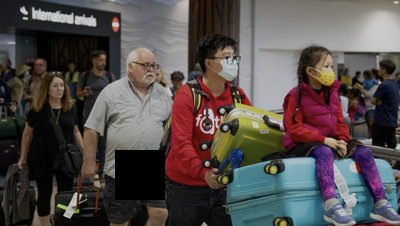with_mask: (212, 52, 240, 80), (315, 59, 337, 88)
without_mask: (136, 59, 159, 86), (50, 82, 66, 99), (32, 61, 47, 76), (96, 55, 107, 71), (172, 77, 184, 89)
